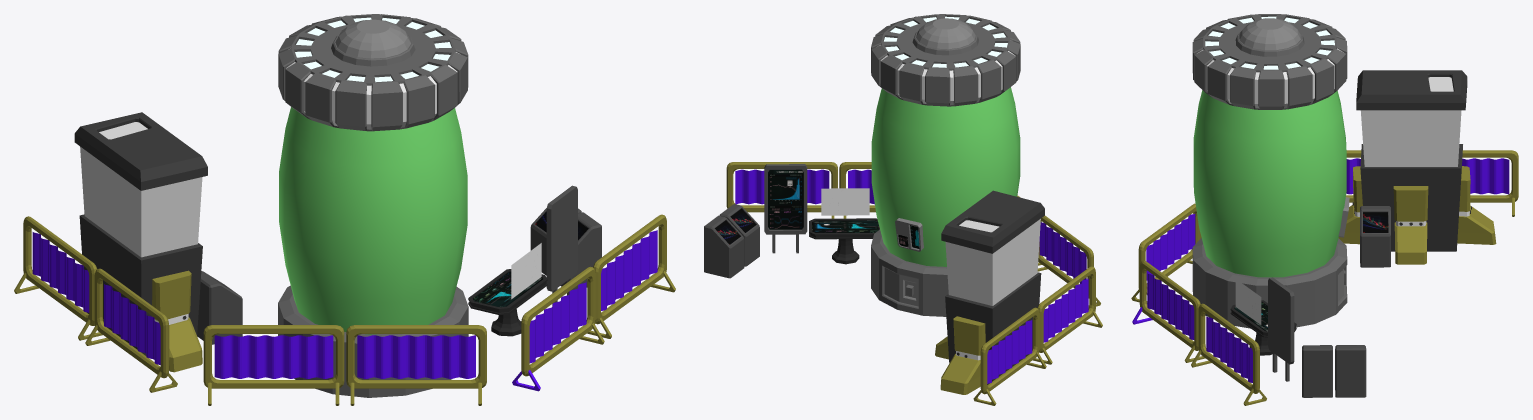
The model's file is Portion_factory_lv1.fbx.
3 views of the same model, side by side, from view 1: azimuth 30°, elevation 25°; view 2: azimuth 150°, elevation 25°; view 3: azimuth 270°, elevation 25° (orthographic). The views are drawn at different scales.
Visible parts, largest first — view 1: NurbsPath.008; view 2: NurbsPath.008; view 3: NurbsPath.008.
Boxes of the visible parts, x1,y1,x2,y2 form: NurbsPath.008: [14, 14, 675, 405]; NurbsPath.008: [704, 14, 1102, 405]; NurbsPath.008: [1131, 14, 1518, 405].
Size of the model in its own units: 1857 by 1190 by 1517.
